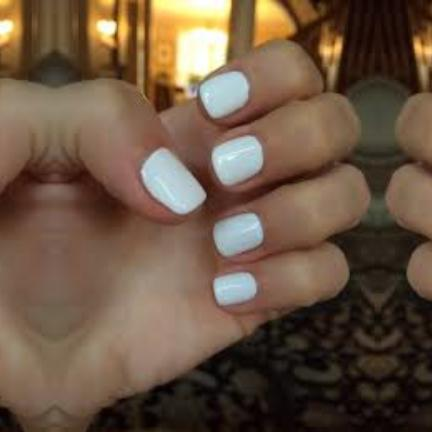Nail: (139, 148, 206, 214), (211, 135, 263, 186), (198, 71, 249, 120), (212, 212, 263, 256), (212, 272, 256, 305)
